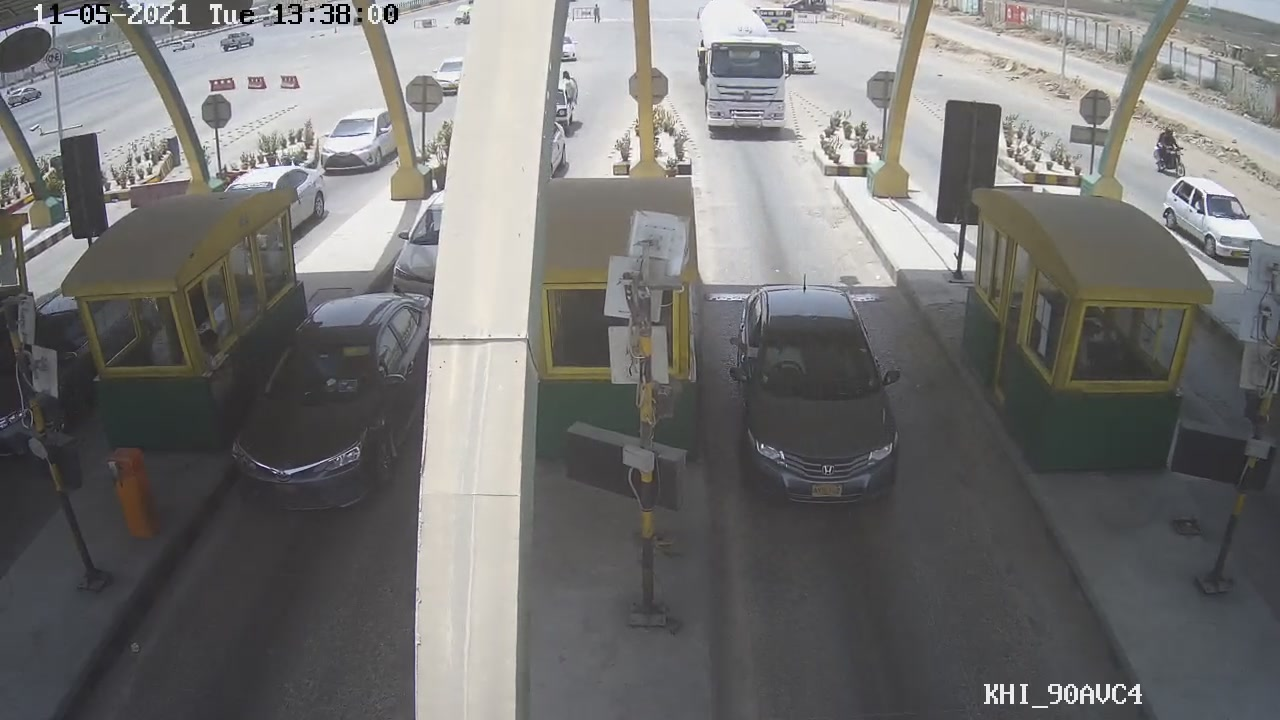F1: (726, 273, 911, 509)
